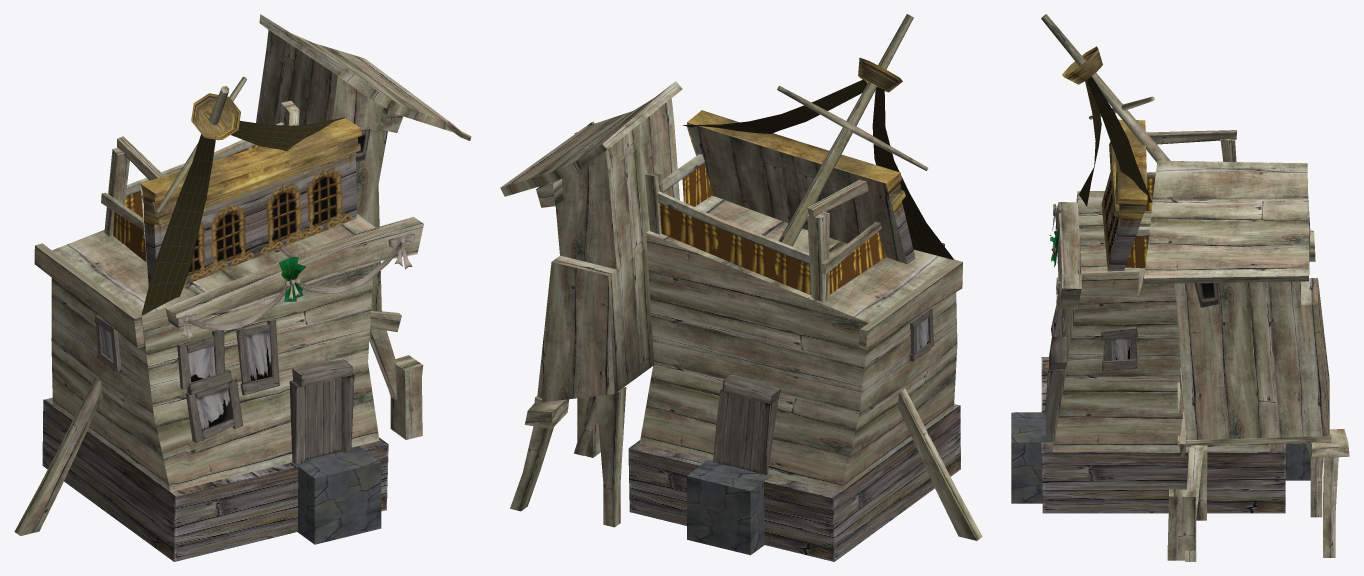
Rendered from shanty_tavern_exterior.fbx.
3 views of the same model, side by side, from view 1: azimuth 30°, elevation 25°; view 2: azimuth 150°, elevation 25°; view 3: azimuth 270°, elevation 25° (orthographic). The views are drawn at different scales.
Parts seen in each view (by area): view 1: shanty_tavern_polySurface147, top_windows2, polySurface382, building_right, polySurface143, step.001, rigging_a_01, roof_right, polySurface145, pasted__support_geo2, door_left, plank8 (+22 smaller); view 2: shanty_tavern_polySurface147, building_right, polySurface382, polySurface141, polySurface380, balconyfence, roof_right, top_windows2, pasted__support_geo2, polySurface145, plank5, mast (+22 smaller); view 3: building_right, shanty_tavern_polySurface147, roof_right, polySurface382, top_windows2, polySurface143, step.001, plank8, rigging_b_01, mast, plank4, polySurface383 (+15 smaller).
Part boxes in pixels (box(x1,y1,x2,y2)): shanty_tavern_polySurface147: box(51, 213, 379, 491); top_windows2: box(140, 118, 361, 286); polySurface382: box(42, 400, 388, 561); building_right: box(256, 29, 387, 311); polySurface143: box(165, 217, 423, 329); step.001: box(297, 462, 381, 544); rigging_a_01: box(153, 134, 215, 299); roof_right: box(259, 14, 454, 131); polySurface145: box(34, 243, 144, 347); pasted__support_geo2: box(14, 377, 102, 535); door_left: box(305, 378, 341, 459); plank8: box(390, 355, 423, 439); shanty_tavern_polySurface147: box(639, 195, 957, 492); building_right: box(537, 98, 679, 402); polySurface382: box(628, 406, 960, 561); polySurface141: box(687, 122, 906, 264); polySurface380: box(686, 475, 771, 555); balconyfence: box(659, 203, 811, 295); roof_right: box(500, 81, 682, 196); top_windows2: box(687, 110, 915, 263); pasted__support_geo2: box(897, 388, 982, 540); polySurface145: box(858, 260, 962, 350); plank5: box(596, 387, 626, 527); mast: box(778, 14, 913, 246); building_right: box(1174, 278, 1329, 439); shanty_tavern_polySurface147: box(1052, 194, 1270, 451); roof_right: box(1143, 160, 1310, 283); polySurface382: box(1041, 453, 1285, 513); top_windows2: box(1101, 119, 1147, 271); polySurface143: box(1055, 202, 1081, 309); step.001: box(1011, 442, 1042, 503); plank8: box(1167, 489, 1195, 560); rigging_b_01: box(1087, 76, 1152, 202); mast: box(1041, 14, 1170, 162); plank4: box(1323, 457, 1338, 557); polySurface383: box(1041, 357, 1285, 453).
Size of the model in its own units: 5529 by 5579 by 4004.
Materials: 4 (4 with a texture image).
